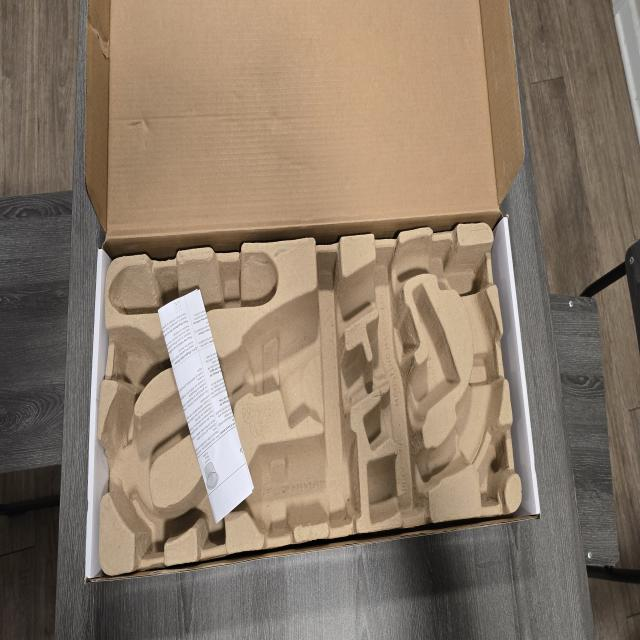1m: (100, 243, 502, 525)
2m: (364, 282, 459, 450)
3m: (230, 432, 362, 535)
4m: (108, 253, 279, 316)
5m: (112, 331, 155, 389)
6m: (117, 492, 164, 563)
7m: (192, 455, 227, 549)
8: (156, 288, 255, 525)
